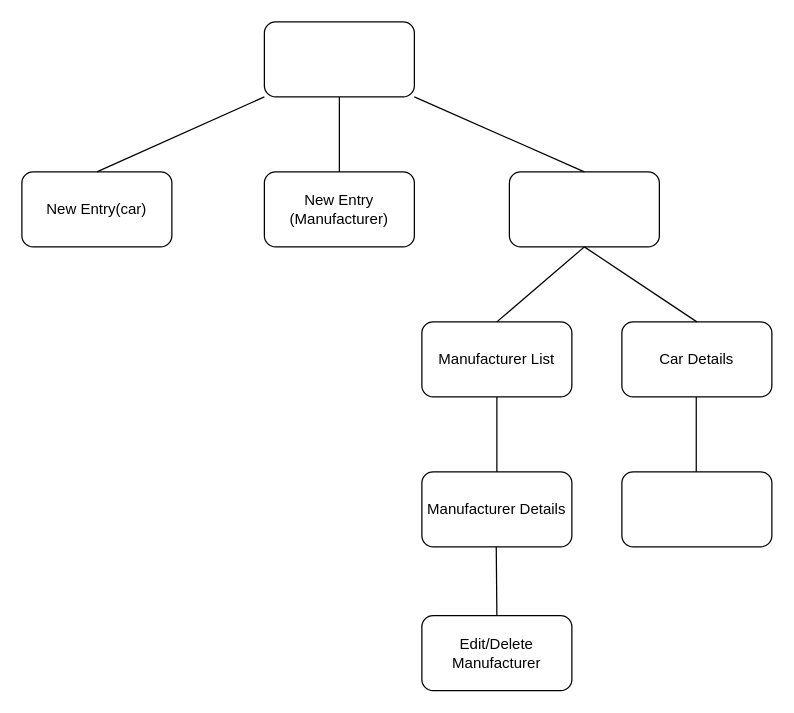
This 794x713 diagram has some shape labels left out. The centre of each missing label's shape, as x and y in pixels:
"Edit/Delete Car" belongs at (696,509).
"Home" belongs at (338,59).
"Stock List" belongs at (583,209).
